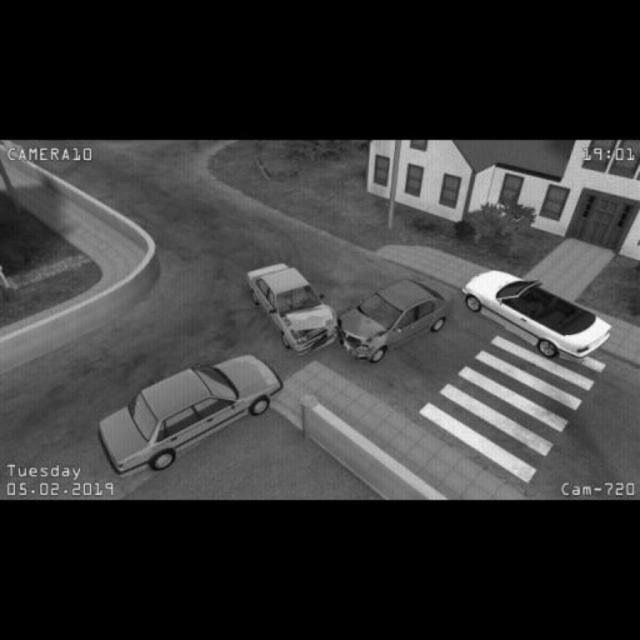accident: (246, 265, 448, 363)
vehicle: (98, 347, 276, 489), (466, 261, 613, 365)
